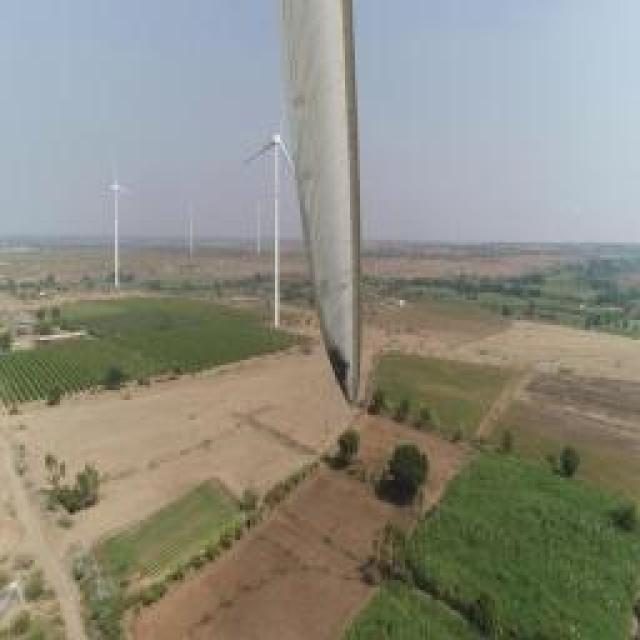Oil LEAKAGE: (325, 346, 354, 396)
